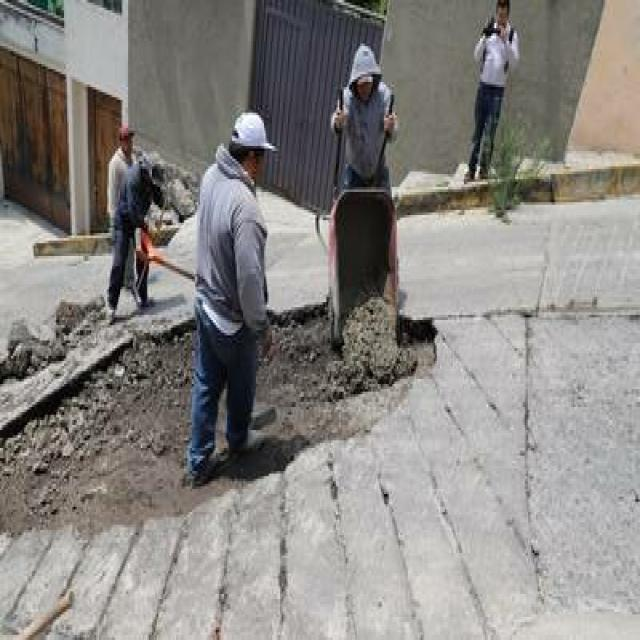Pothole: (2, 269, 448, 586)
